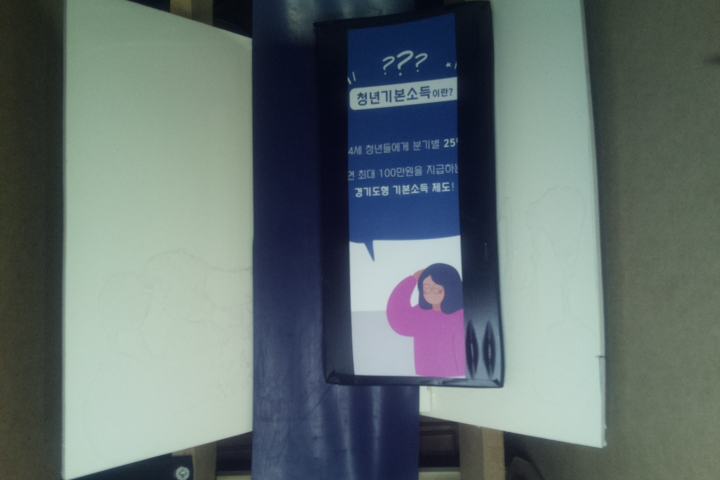book: (322, 1, 504, 388)
